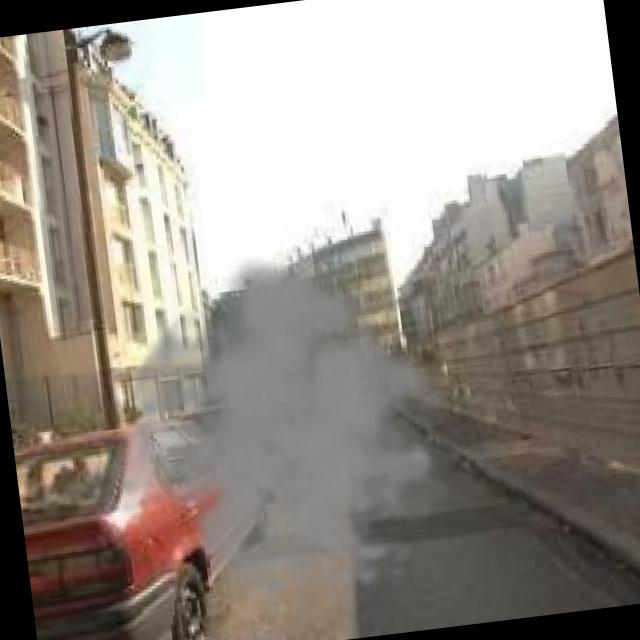Smoke: (76, 234, 486, 639)
